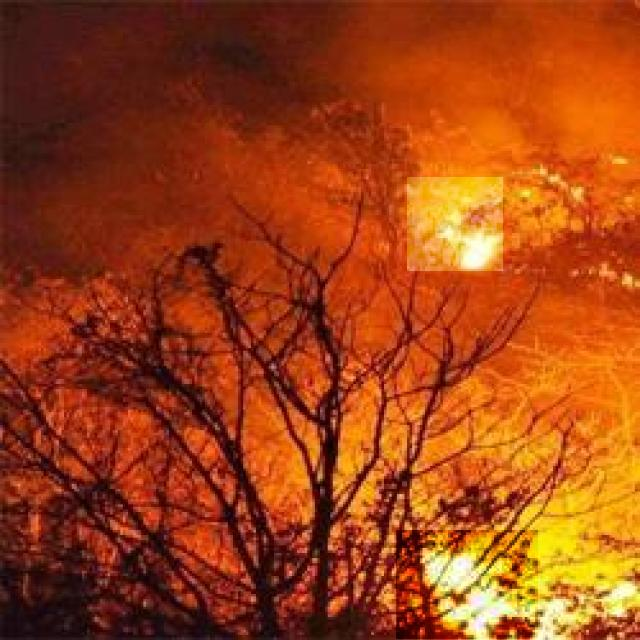Fire: (396, 530, 538, 639), (407, 177, 503, 271)
